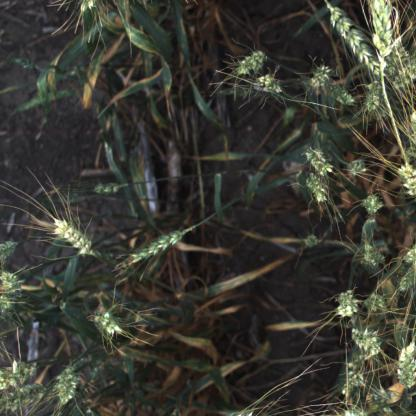whd: (324, 3, 387, 80), (126, 224, 192, 270), (364, 0, 397, 73), (0, 379, 50, 416), (52, 215, 95, 254), (0, 359, 41, 391), (394, 336, 416, 392), (54, 364, 80, 408), (390, 56, 416, 99), (349, 326, 383, 358), (342, 354, 366, 396), (333, 287, 360, 322), (304, 145, 334, 175), (233, 49, 265, 76), (395, 160, 416, 200), (324, 81, 356, 106), (372, 384, 396, 416), (92, 309, 121, 335), (306, 172, 329, 204), (396, 259, 416, 295), (361, 80, 382, 113), (364, 240, 386, 270), (0, 267, 24, 292), (254, 73, 283, 93), (362, 293, 388, 314), (71, 0, 100, 17), (309, 64, 329, 88), (92, 181, 126, 195), (361, 193, 384, 213), (400, 240, 416, 268), (0, 242, 21, 261), (340, 404, 372, 416), (345, 159, 366, 177), (301, 232, 321, 249), (0, 292, 16, 312), (408, 106, 415, 144)
